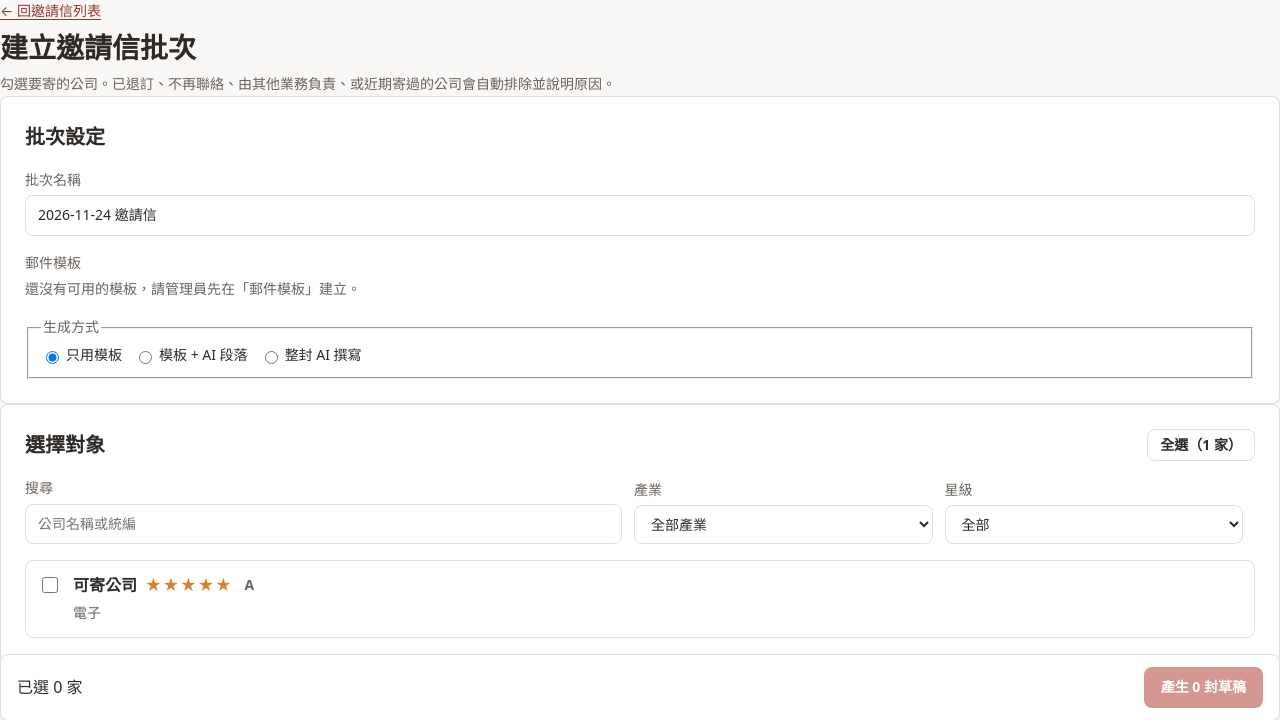
Test case: M2-03d 建立批次 › test_m3_16_filter_empty_state：篩選後沒有結果時顯示可以清除篩選的空狀態
Check: the checkbox labelled "可寄公司 ★★★★★ A 電子" is shown, box [42,577,58,593]
Select "★★★★★ 第一優先" in the dropdown labelled "星級" at (1094, 524), box [944,505,1243,544]
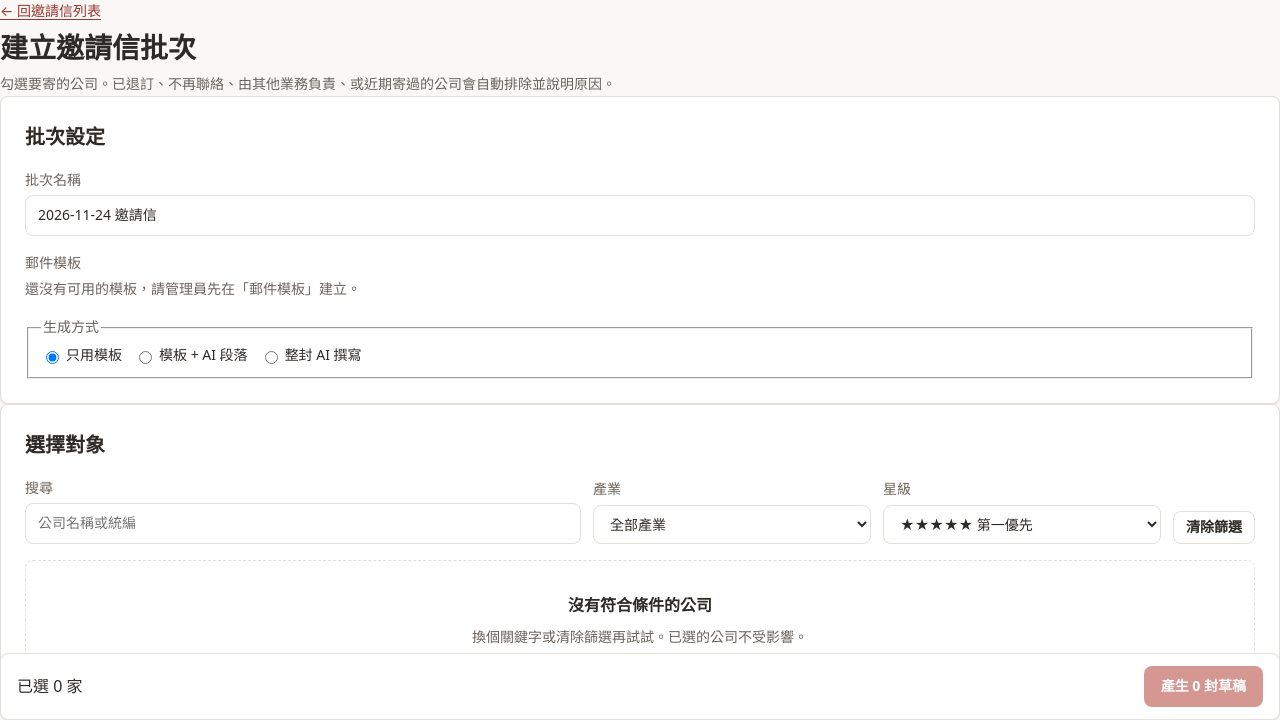
Check: the text "沒有符合條件的公司" is shown, box [568,594,712,616]
